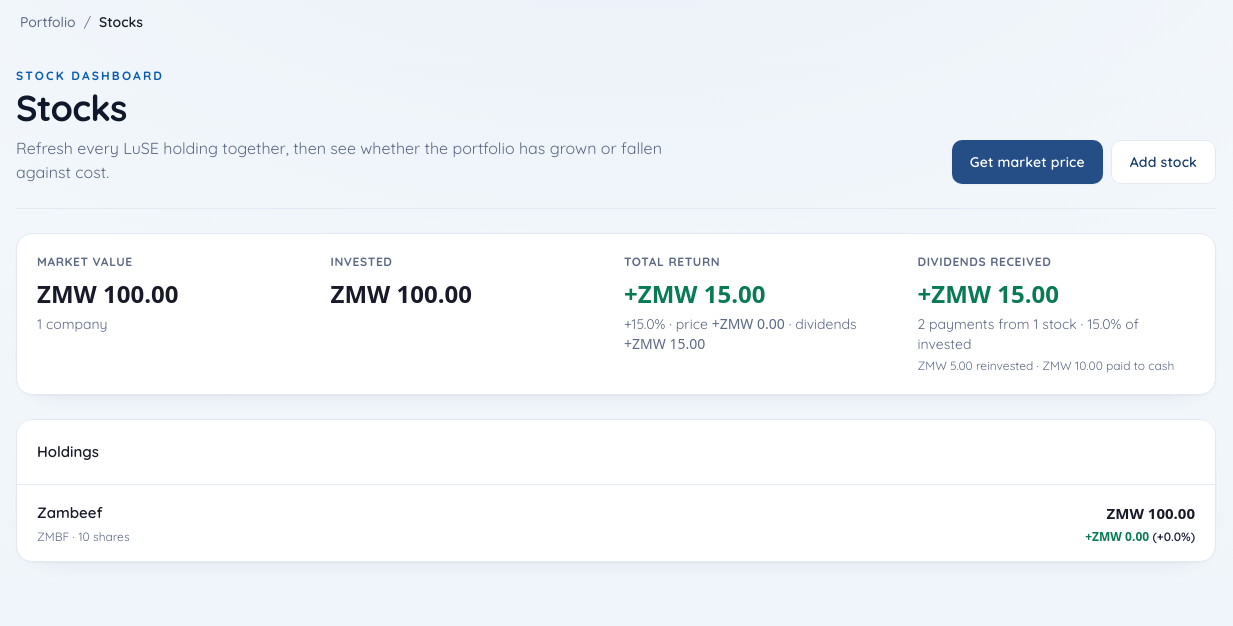
Test case: StocksDashboardPage › gets all market prices from one directory request and records the new value
Expected: the text "ZMBF · 10 shares" is shown, [37,529,130,545]
Click the button "Get market price".
click(1027, 162)  # box [952,140,1103,184]
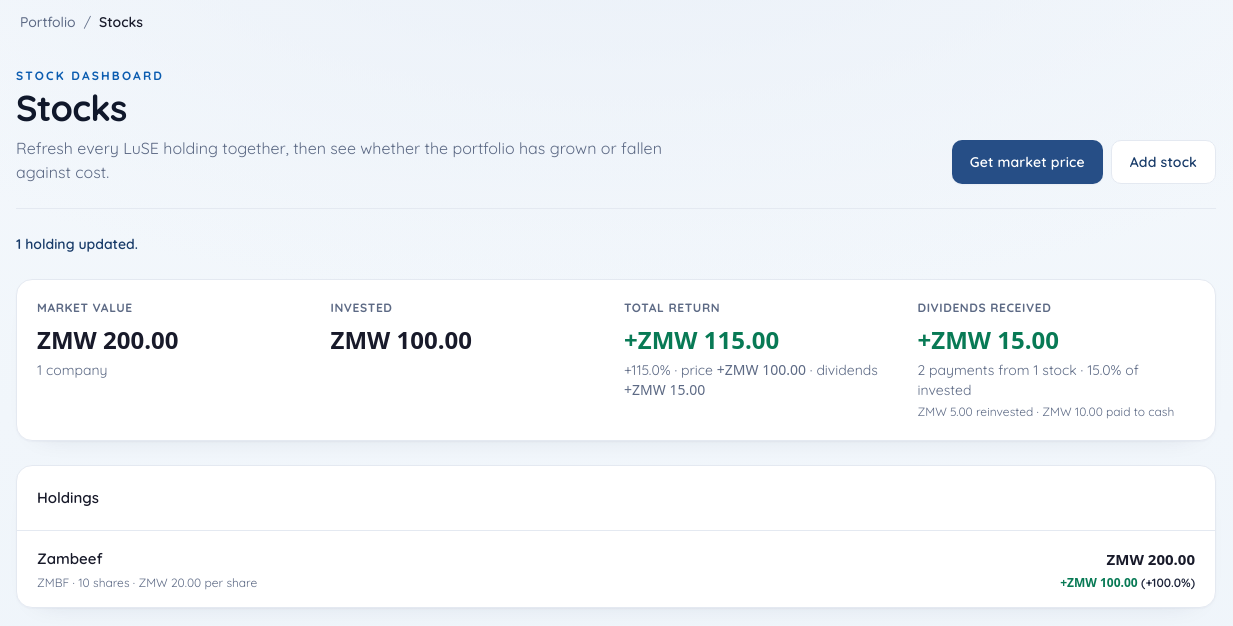
Expected: the text "Total return" is shown, [624,300,720,315]
Result: the text "1 holding updated." is shown at [16,235,138,253]
Result: the text "ZMW 200.00" below "Market value" is shown at [37,323,178,356]
